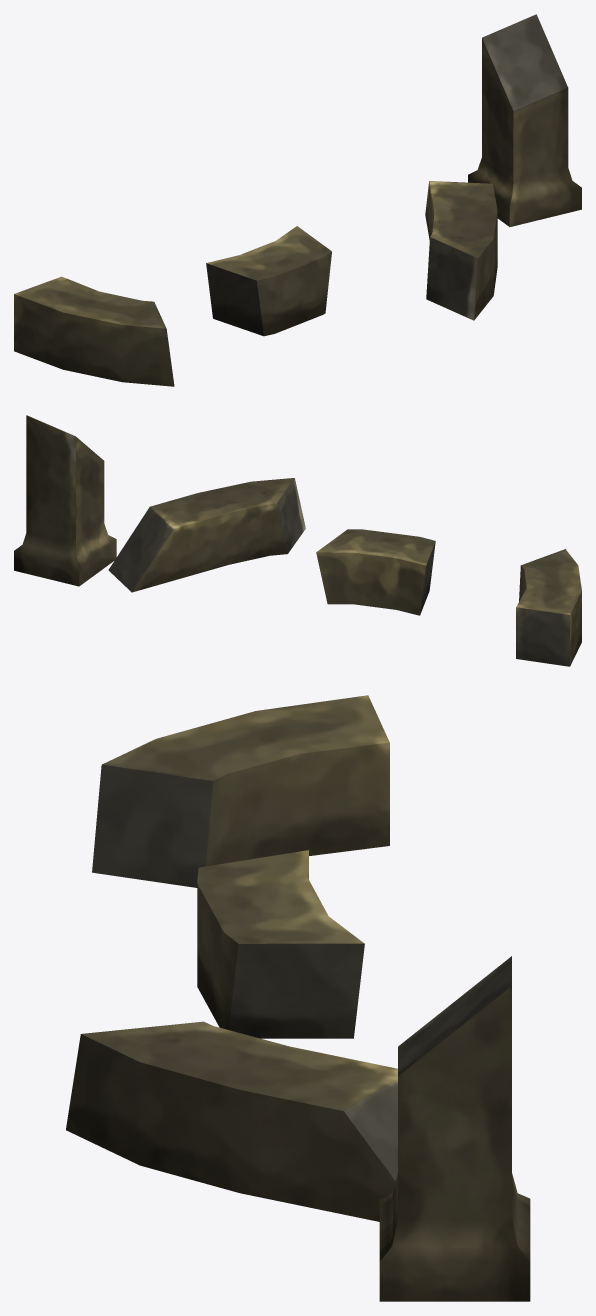
File: BrokeColumn2a.fbx
The picture shows the model from 3 angles, top to bottom: view 1: azimuth 30°, elevation 25°; view 2: azimuth 150°, elevation 25°; view 3: azimuth 270°, elevation 25°; orthographic projection. The views are drawn at different scales.
Parts seen in each view (by area): view 1: polySurface11; view 2: polySurface11; view 3: polySurface11.
Part boxes in pixels (bbox=[...]): polySurface11: bbox=[14, 14, 581, 386]; polySurface11: bbox=[14, 415, 581, 666]; polySurface11: bbox=[66, 695, 530, 1301].
Size of the model in its own units: 5.22 by 1.49 by 2.04.
